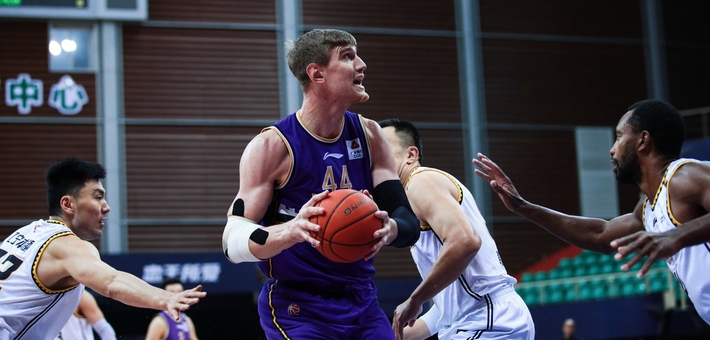ball: (307, 189, 383, 263)
